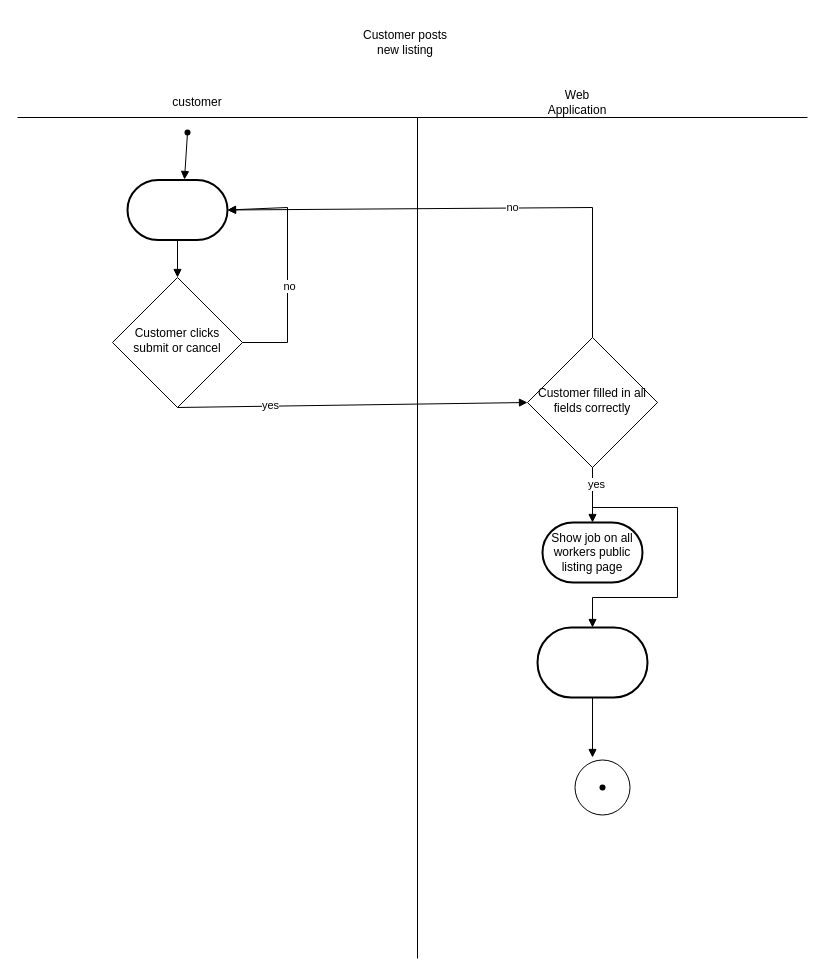
Some shapes in this 826 by 977 pixel diagram are drawn without their labels. Here are the shapes that lost their labels. From the top down, the centre of each, then its label:
At point (177, 209): "Customer enters information on new listing page".
At point (592, 662): "Show job listing on Your Listing page".
